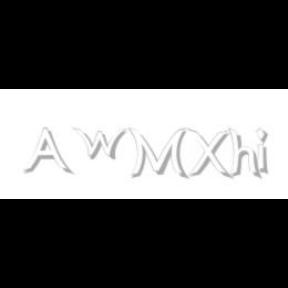A: (23, 128, 71, 176)
M: (127, 128, 186, 180)
X: (186, 128, 230, 180)
h: (228, 128, 264, 180)
i: (256, 128, 272, 176)
w: (73, 128, 132, 160)
